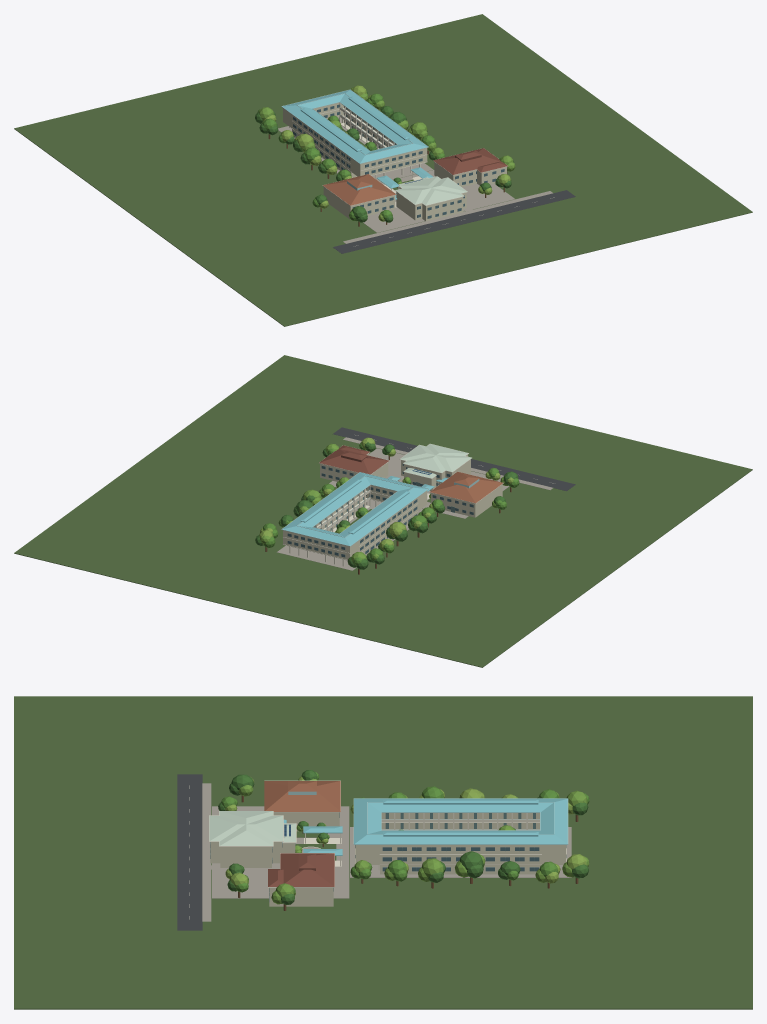
The model's file is khu-a.glb.
3 views of the same model, one above another, from view 1: azimuth 30°, elevation 25°; view 2: azimuth 150°, elevation 25°; view 3: azimuth 270°, elevation 25° (orthographic). The views are drawn at different scales.
Visible parts, largest first — view 1: Nền khuôn viên, Mái xanh bao quanh sân cây, Đường phía Tòa nhà Trung tâm, Nền cụm nhà phía đường, Mái Dãy mái bạc đỏ, Khối nối hai dãy, Dãy lớp học, Mái Dãy mái đỏ, Vỉa hè phía Khu A, Dãy mái bạc đỏ, Mái Cánh khối mái sáng, Mái Khối mái sáng (+1 smaller); view 2: Nền khuôn viên, Mái xanh bao quanh sân cây, Đường phía Tòa nhà Trung tâm, Mái Dãy mái bạc đỏ, Khối nối hai dãy.001, Mái Dãy mái đỏ, Dãy mái bạc đỏ, Dãy lớp học, Lối đi quanh khối A, Nền cụm nhà phía đường, Mái Cánh khối mái sáng, Mái Khối mái sáng (+1 smaller); view 3: Nền khuôn viên, Mái xanh bao quanh sân cây, Đường phía Tòa nhà Trung tâm, Nền cụm nhà phía đường, Dãy lớp học.001, Mái Dãy mái bạc đỏ, Mái Dãy mái đỏ, Dãy lớp học, Mái Cánh khối mái sáng, Vỉa hè phía Khu A, Mái Khối mái sáng, Khối mái sáng (+4 smaller).
Boxes of the visible parts, x1,y1,x2,y2 form: Nền khuôn viên: [14, 14, 752, 326]; Mái xanh bao quanh sân cây: [282, 90, 427, 163]; Đường phía Tòa nhà Trung tâm: [333, 190, 575, 253]; Nền cụm nhà phía đường: [363, 170, 514, 232]; Mái Dãy mái bạc đỏ: [323, 174, 396, 205]; Khối nối hai dãy: [351, 148, 427, 176]; Dãy lớp học: [292, 115, 357, 177]; Mái Dãy mái đỏ: [433, 148, 502, 174]; Vỉa hè phía Khu A: [343, 191, 552, 243]; Dãy mái bạc đỏ: [323, 187, 395, 219]; Mái Cánh khối mái sáng: [399, 176, 463, 205]; Mái Khối mái sáng: [395, 177, 467, 204]; Nền khuôn viên: [14, 355, 752, 667]; Mái xanh bao quanh sân cây: [282, 472, 427, 545]; Đường phía Tòa nhà Trung tâm: [333, 427, 575, 491]; Mái Dãy mái bạc đỏ: [430, 471, 502, 503]; Khối nối hai dãy.001: [283, 530, 358, 559]; Mái Dãy mái đỏ: [319, 448, 388, 474]; Dãy mái bạc đỏ: [431, 484, 502, 517]; Dãy lớp học: [359, 497, 418, 555]; Lối đi quanh khối A: [277, 499, 422, 570]; Nền cụm nhà phía đường: [329, 448, 509, 518]; Mái Cánh khối mái sáng: [403, 444, 468, 472]; Mái Khối mái sáng: [400, 445, 471, 471]; Nền khuôn viên: [14, 696, 752, 1009]; Mái xanh bao quanh sân cây: [354, 798, 567, 844]; Đường phía Tòa nhà Trung tâm: [177, 774, 202, 930]; Nền cụm nhà phía đường: [212, 806, 349, 898]; Dãy lớp học.001: [380, 845, 541, 874]; Mái Dãy mái bạc đỏ: [264, 781, 340, 811]; Mái Dãy mái đỏ: [280, 853, 334, 886]; Dãy lớp học: [381, 813, 539, 828]; Mái Cánh khối mái sáng: [209, 815, 282, 841]; Vỉa hè phía Khu A: [202, 783, 211, 921]; Mái Khối mái sáng: [219, 811, 273, 845]; Khối mái sáng: [220, 847, 271, 867].
Size of the model in its own units: 210 by 11.5 by 210.
